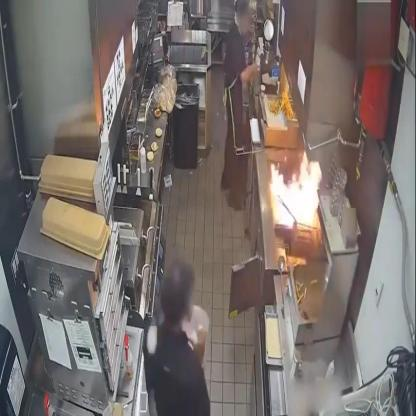fire: (266, 142, 326, 238)
